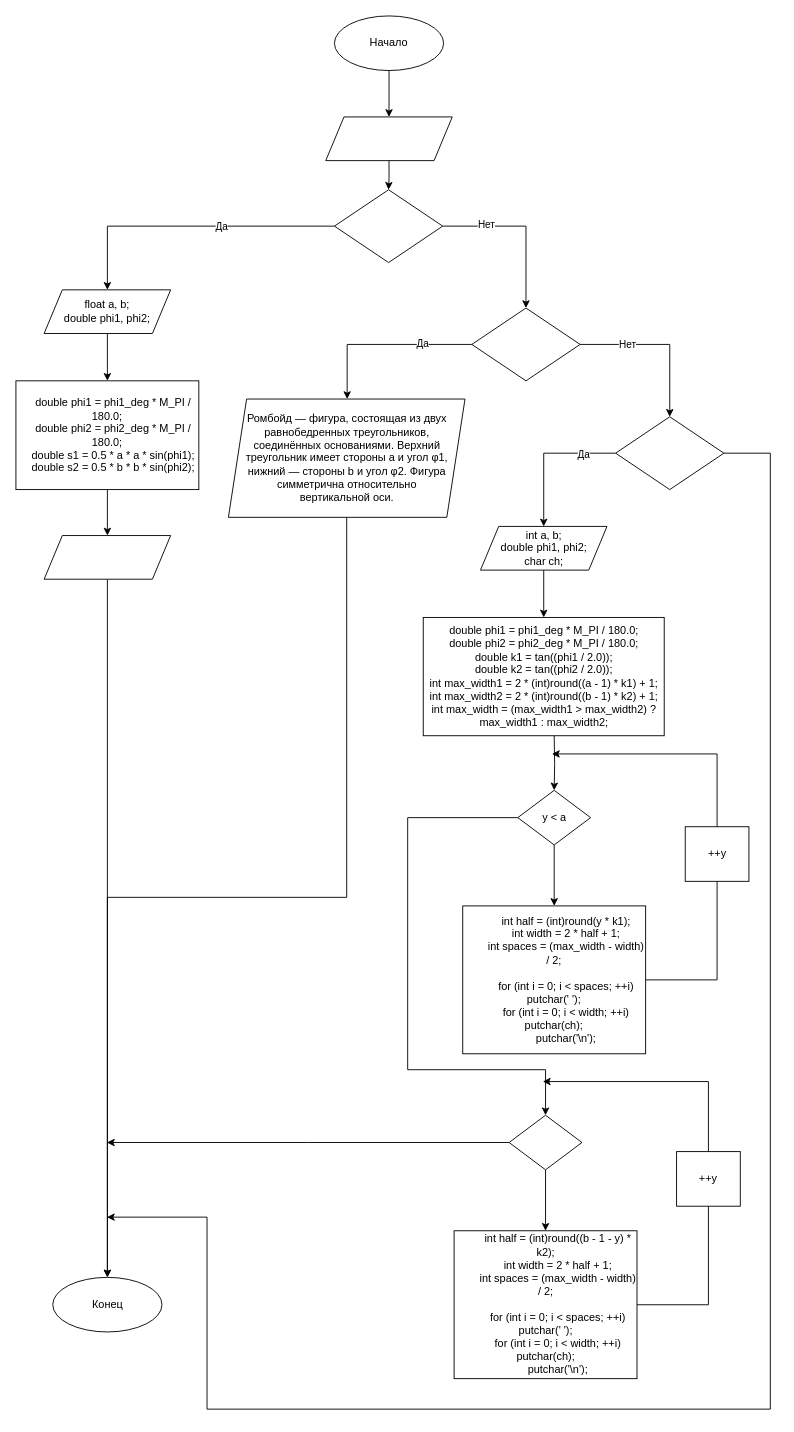
The diagram is 794 pixels wide and 1432 high, and some of its shapes have lost their labels. Here are the shapes that lost their labels. From the top down, the centre of each, then its label:
the point at 388,138: int choice
the point at 388,226: choice == 1
the point at 525,344: choice == 2
the point at 669,453: choice == 3
the point at 107,557: (float)(s1 + s2)
the point at 545,1142: y < b
